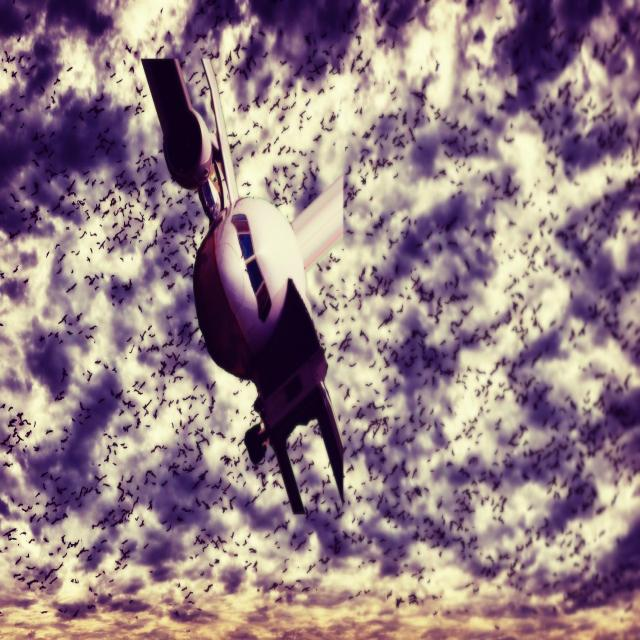airplane: (140, 54, 347, 516)
